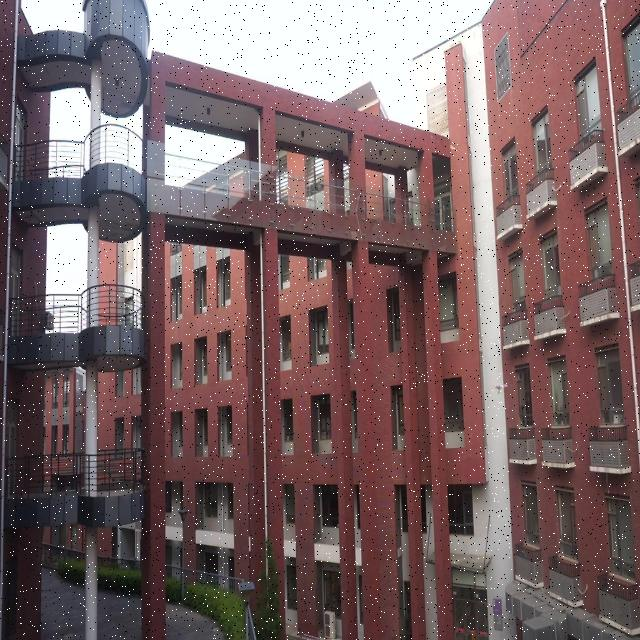UAV: (493, 384, 508, 395)
